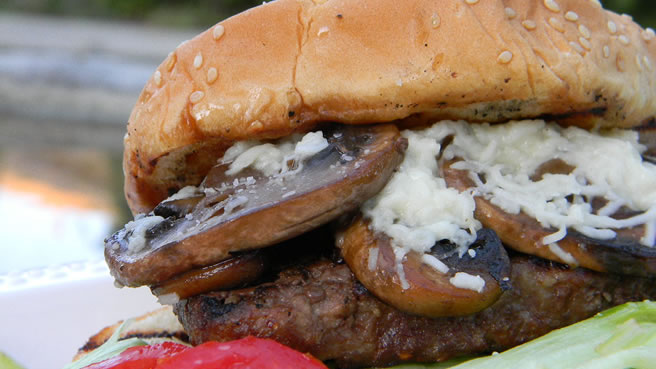hamburger: (89, 1, 656, 365)
